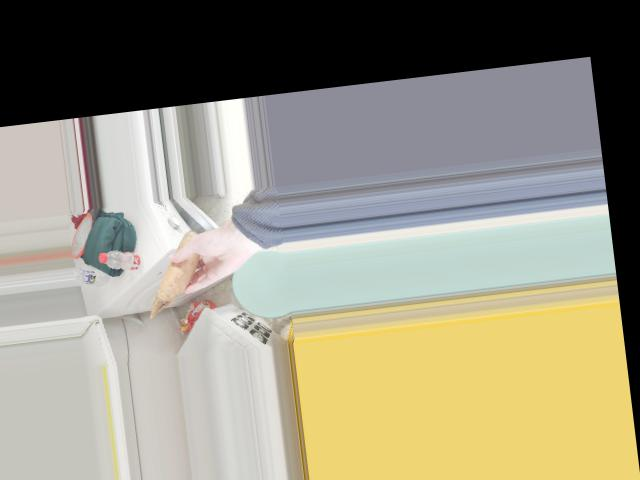sweet_potato: (161, 232, 211, 288)
